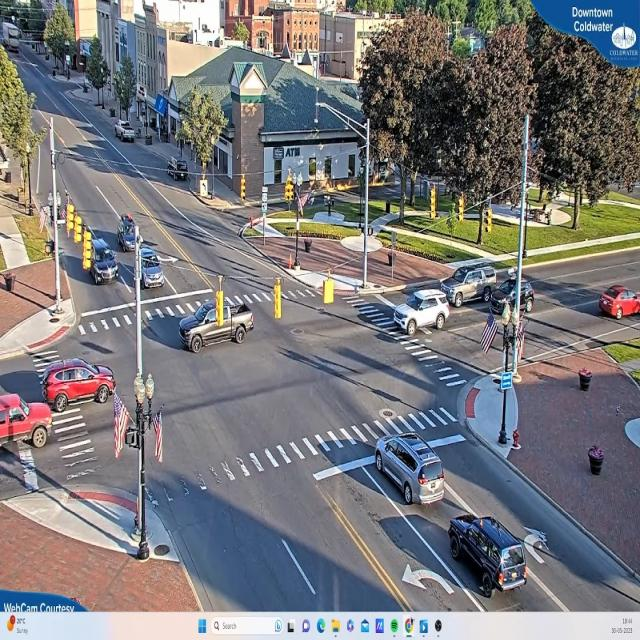car: (449, 514, 532, 595), (373, 433, 445, 506), (180, 296, 255, 352), (40, 362, 113, 409), (0, 389, 54, 447), (393, 291, 452, 335), (441, 268, 500, 308), (486, 279, 534, 313), (87, 236, 119, 284), (599, 285, 639, 319), (140, 249, 164, 291), (116, 120, 138, 143)
